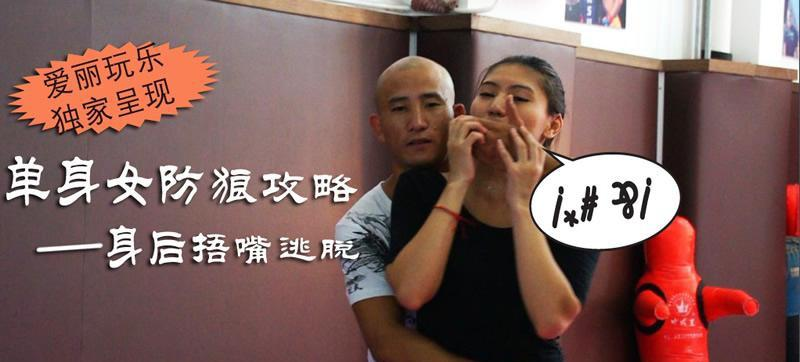NONE: (381, 93, 452, 164)
WRONG: (467, 76, 551, 160)
